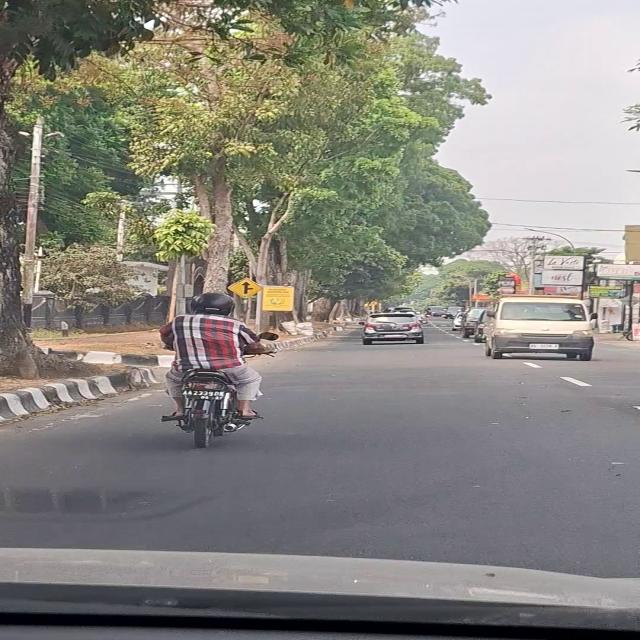WithHelmet: (159, 293, 275, 421)
